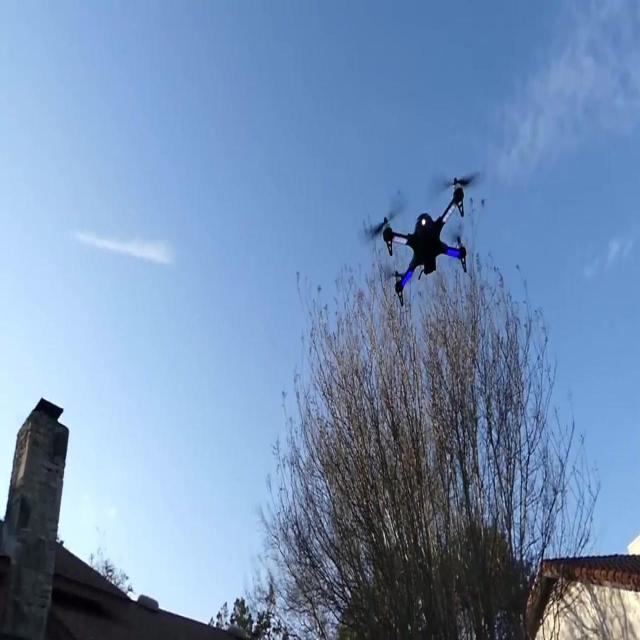UAV: (363, 170, 483, 308)
